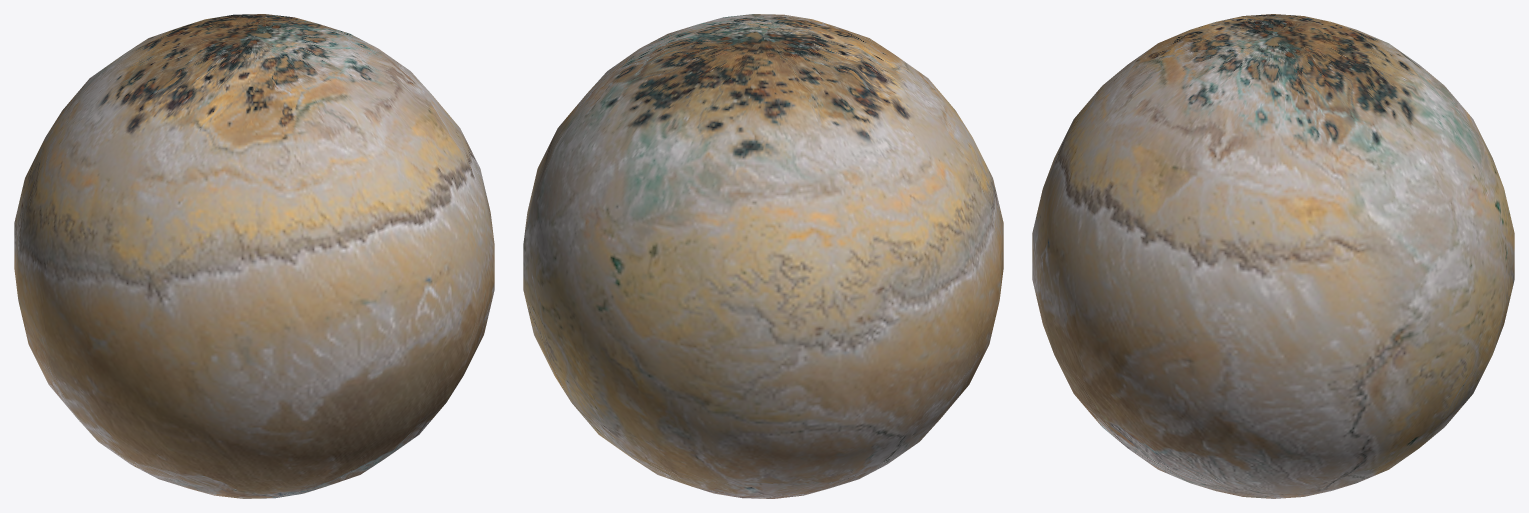
Rendered from AsteroidT.obj.
The picture shows the model from 3 angles, left to right: view 1: azimuth 30°, elevation 25°; view 2: azimuth 150°, elevation 25°; view 3: azimuth 270°, elevation 25°; orthographic projection.
Bounding box in the file's own units: 1.99 × 2 × 1.99.
Materials: 1 (1 with a texture image).
